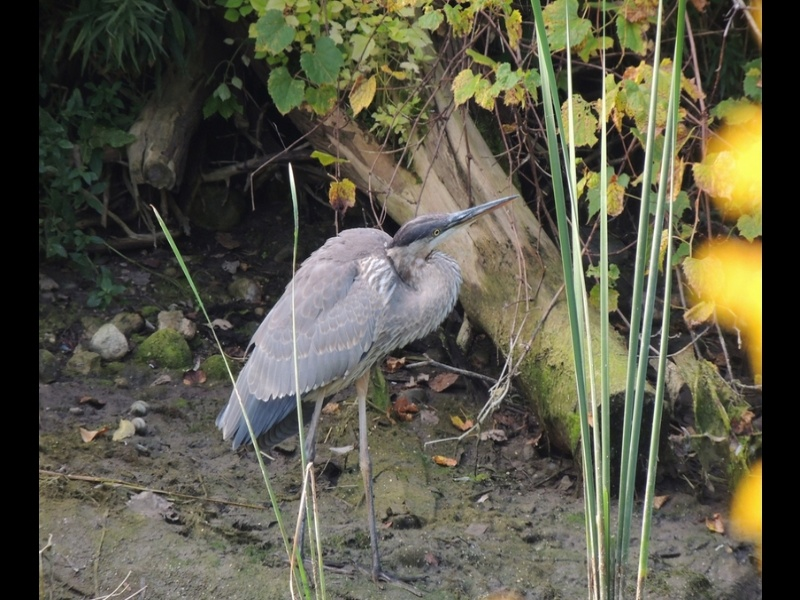heron: (215, 193, 564, 598)
